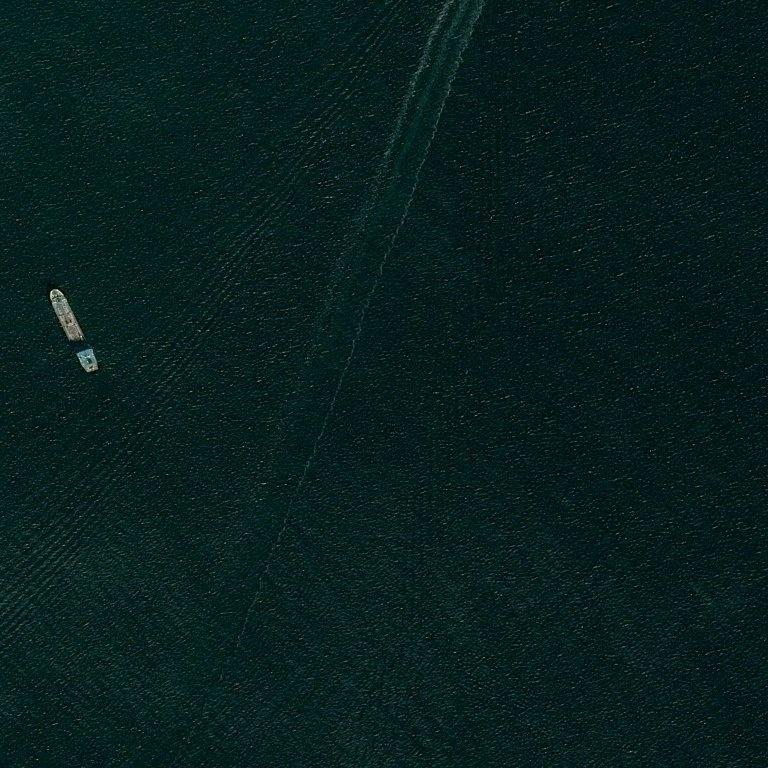ship: (48, 322, 104, 337), (95, 361, 102, 372), (86, 364, 92, 374), (52, 288, 57, 294)
